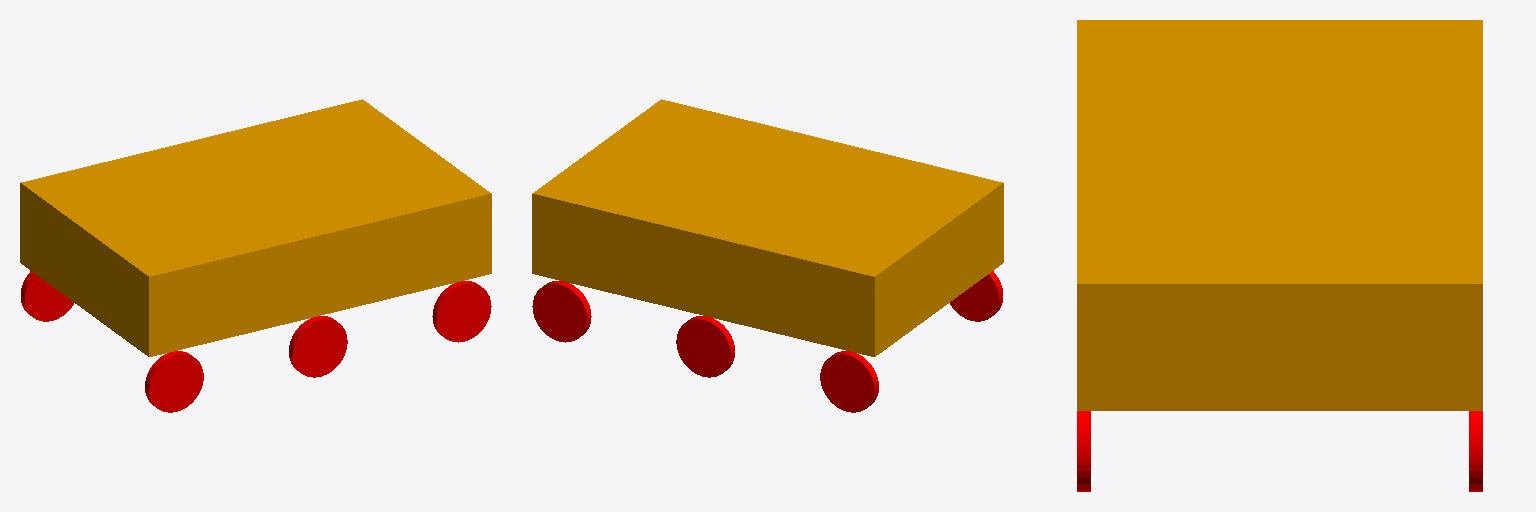
URDF robot description (mobile_ur10):
<?xml version="1.0" ?>
<!-- =================================================================================== -->
<!-- |    This document was autogenerated by xacro from mobile_arm.urdf.xacro          | -->
<!-- |    EDITING THIS FILE BY HAND IS NOT RECOMMENDED                                 | -->
<!-- =================================================================================== -->
<robot name="mobile_ur10" xmlns:xacro="http://ros.org/wiki/xacro">
  <gazebo>
    <!-- turn on self-collision detection so that links will not pass through each other -->
    <self_collide>0</self_collide>
    <!-- disable the default behavior with PositionJointInterface that causes twists to be cleared -->
    <preserveWorldVelocity>1</preserveWorldVelocity>
    <!-- for the mobile base -->
    <!-- MQMX to (possibly?) replace this with ros control plugin -->
    <plugin filename="libgazebo_ros_diff_drive.so" name="differential_drive_controller">
      <leftJoint>wheel_2_joint</leftJoint>
      <rightJoint>wheel_5_joint</rightJoint>
      <robotBaseFrame>chassis</robotBaseFrame>
      <wheelSeparation>0.56</wheelSeparation>
      <wheelDiameter>0.142</wheelDiameter>
      <publishWheelJointState>true</publishWheelJointState>
      <legacyMode>false</legacyMode>
    </plugin>
    <!-- for the UR10, copied from $(find ur_description)/urdf/common.gazebo.xacro -->
    <plugin filename="libgazebo_ros_control.so" name="ros_control"/>
  </gazebo>
  <!-- Chassis link -->
  <link name="chassis">
    <visual name="visual">
      <geometry>
        <box size="0.89 0.58 0.2"/>
      </geometry>
    </visual>
    <collision name="collision">
      <geometry>
        <box size="0.89 0.58 0.2"/>
      </geometry>
    </collision>
    <inertial>
      <mass value="63.65"/>
      <inertia ixx="1.99648833333" ixy="0.0" ixz="0.0" iyy="4.41359708333" iyz="0.0" izz="5.98575208333"/>
    </inertial>
  </link>
  <link name="wheel_1_link">
    <!-- Note: must omit name="foo" because in Gazebo 7 the urdf parser has a bug that would make <gazebo reference="bar"> not work -->
    <visual>
      <geometry>
        <cylinder length="0.02" radius="0.071"/>
      </geometry>
      <material name="red">
        <color rgba="1 0 0 1"/>
      </material>
    </visual>
    <!-- Note: must omit name="foo" because in Gazebo 7 the urdf parser has a bug that would make <gazebo reference="bar"> not work -->
    <collision>
      <geometry>
        <cylinder length="0.02" radius="0.071"/>
      </geometry>
    </collision>
    <inertial>
      <mass value="0.558333333333"/>
      <inertia ixx="0.000722250694444" ixy="0.0" ixz="0.0" iyy="0.000722250694444" iyz="0.0" izz="0.00140727916667"/>
    </inertial>
  </link>
  <joint name="wheel_1_joint" type="fixed">
    <axis xyz="0 0 1"/>
    <parent link="chassis"/>
    <child link="wheel_1_link"/>
    <origin rpy="-1.5707963268 0 0" xyz="0.374 0.28 -0.181"/>
  </joint>
  <link name="wheel_2_link">
    <!-- Note: must omit name="foo" because in Gazebo 7 the urdf parser has a bug that would make <gazebo reference="bar"> not work -->
    <visual>
      <geometry>
        <cylinder length="0.02" radius="0.071"/>
      </geometry>
      <material name="red">
        <color rgba="1 0 0 1"/>
      </material>
    </visual>
    <!-- Note: must omit name="foo" because in Gazebo 7 the urdf parser has a bug that would make <gazebo reference="bar"> not work -->
    <collision>
      <geometry>
        <cylinder length="0.02" radius="0.071"/>
      </geometry>
    </collision>
    <inertial>
      <mass value="0.558333333333"/>
      <inertia ixx="0.000722250694444" ixy="0.0" ixz="0.0" iyy="0.000722250694444" iyz="0.0" izz="0.00140727916667"/>
    </inertial>
  </link>
  <joint name="wheel_2_joint" type="continuous">
    <axis xyz="0 0 1"/>
    <parent link="chassis"/>
    <child link="wheel_2_link"/>
    <origin rpy="-1.5707963268 0 0" xyz="0 0.28 -0.181"/>
  </joint>
  <link name="wheel_3_link">
    <!-- Note: must omit name="foo" because in Gazebo 7 the urdf parser has a bug that would make <gazebo reference="bar"> not work -->
    <visual>
      <geometry>
        <cylinder length="0.02" radius="0.071"/>
      </geometry>
      <material name="red">
        <color rgba="1 0 0 1"/>
      </material>
    </visual>
    <!-- Note: must omit name="foo" because in Gazebo 7 the urdf parser has a bug that would make <gazebo reference="bar"> not work -->
    <collision>
      <geometry>
        <cylinder length="0.02" radius="0.071"/>
      </geometry>
    </collision>
    <inertial>
      <mass value="0.558333333333"/>
      <inertia ixx="0.000722250694444" ixy="0.0" ixz="0.0" iyy="0.000722250694444" iyz="0.0" izz="0.00140727916667"/>
    </inertial>
  </link>
  <joint name="wheel_3_joint" type="fixed">
    <axis xyz="0 0 1"/>
    <parent link="chassis"/>
    <child link="wheel_3_link"/>
    <origin rpy="-1.5707963268 0 0" xyz="-0.374 0.28 -0.181"/>
  </joint>
  <link name="wheel_4_link">
    <!-- Note: must omit name="foo" because in Gazebo 7 the urdf parser has a bug that would make <gazebo reference="bar"> not work -->
    <visual>
      <geometry>
        <cylinder length="0.02" radius="0.071"/>
      </geometry>
      <material name="red">
        <color rgba="1 0 0 1"/>
      </material>
    </visual>
    <!-- Note: must omit name="foo" because in Gazebo 7 the urdf parser has a bug that would make <gazebo reference="bar"> not work -->
    <collision>
      <geometry>
        <cylinder length="0.02" radius="0.071"/>
      </geometry>
    </collision>
    <inertial>
      <mass value="0.558333333333"/>
      <inertia ixx="0.000722250694444" ixy="0.0" ixz="0.0" iyy="0.000722250694444" iyz="0.0" izz="0.00140727916667"/>
    </inertial>
  </link>
  <joint name="wheel_4_joint" type="fixed">
    <axis xyz="0 0 1"/>
    <parent link="chassis"/>
    <child link="wheel_4_link"/>
    <origin rpy="-1.5707963268 0 0" xyz="-0.374 -0.28 -0.181"/>
  </joint>
  <link name="wheel_5_link">
    <!-- Note: must omit name="foo" because in Gazebo 7 the urdf parser has a bug that would make <gazebo reference="bar"> not work -->
    <visual>
      <geometry>
        <cylinder length="0.02" radius="0.071"/>
      </geometry>
      <material name="red">
        <color rgba="1 0 0 1"/>
      </material>
    </visual>
    <!-- Note: must omit name="foo" because in Gazebo 7 the urdf parser has a bug that would make <gazebo reference="bar"> not work -->
    <collision>
      <geometry>
        <cylinder length="0.02" radius="0.071"/>
      </geometry>
    </collision>
    <inertial>
      <mass value="0.558333333333"/>
      <inertia ixx="0.000722250694444" ixy="0.0" ixz="0.0" iyy="0.000722250694444" iyz="0.0" izz="0.00140727916667"/>
    </inertial>
  </link>
  <joint name="wheel_5_joint" type="continuous">
    <axis xyz="0 0 1"/>
    <parent link="chassis"/>
    <child link="wheel_5_link"/>
    <origin rpy="-1.5707963268 0 0" xyz="0 -0.28 -0.181"/>
  </joint>
  <link name="wheel_6_link">
    <!-- Note: must omit name="foo" because in Gazebo 7 the urdf parser has a bug that would make <gazebo reference="bar"> not work -->
    <visual>
      <geometry>
        <cylinder length="0.02" radius="0.071"/>
      </geometry>
      <material name="red">
        <color rgba="1 0 0 1"/>
      </material>
    </visual>
    <!-- Note: must omit name="foo" because in Gazebo 7 the urdf parser has a bug that would make <gazebo reference="bar"> not work -->
    <collision>
      <geometry>
        <cylinder length="0.02" radius="0.071"/>
      </geometry>
    </collision>
    <inertial>
      <mass value="0.558333333333"/>
      <inertia ixx="0.000722250694444" ixy="0.0" ixz="0.0" iyy="0.000722250694444" iyz="0.0" izz="0.00140727916667"/>
    </inertial>
  </link>
  <joint name="wheel_6_joint" type="fixed">
    <axis xyz="0 0 1"/>
    <parent link="chassis"/>
    <child link="wheel_6_link"/>
    <origin rpy="-1.5707963268 0 0" xyz="0.374 -0.28 -0.181"/>
  </joint>
  <gazebo reference="wheel_1_link">
    <mu1>0</mu1>
    <mu2>0</mu2>
    <material>Gazebo/Red</material>
  </gazebo>
  <gazebo reference="wheel_3_link">
    <mu1>0</mu1>
    <mu2>0</mu2>
    <material>Gazebo/Red</material>
  </gazebo>
  <gazebo reference="wheel_4_link">
    <mu1>0</mu1>
    <mu2>0</mu2>
    <material>Gazebo/Red</material>
  </gazebo>
  <gazebo reference="wheel_6_link">
    <mu1>0</mu1>
    <mu2>0</mu2>
    <material>Gazebo/Red</material>
  </gazebo>
  <!--
  Author: [author]
  Contributers: [author], [author], [author]
-->
  <!-- measured from model -->
  <link name="base_link">
    <visual>
      <geometry>
        <mesh filename="package://ur_description/meshes/ur10/visual/base.dae"/>
      </geometry>
      <material name="LightGrey">
        <color rgba="0.7 0.7 0.7 1.0"/>
      </material>
    </visual>
    <collision>
      <geometry>
        <mesh filename="package://ur_description/meshes/ur10/collision/base.stl"/>
      </geometry>
    </collision>
    <inertial>
      <mass value="4.0"/>
      <origin rpy="0 0 0" xyz="0.0 0.0 0.0"/>
      <inertia ixx="0.0061063308908" ixy="0.0" ixz="0.0" iyy="0.0061063308908" iyz="0.0" izz="0.01125"/>
    </inertial>
  </link>
  <joint name="shoulder_pan_joint" type="revolute">
    <parent link="base_link"/>
    <child link="shoulder_link"/>
    <origin rpy="0.0 0.0 0.0" xyz="0.0 0.0 0.1273"/>
    <axis xyz="0 0 1"/>
    <limit effort="330.0" lower="-6.28318530718" upper="6.28318530718" velocity="2.16"/>
    <dynamics damping="0.0" friction="0.0"/>
  </joint>
  <link name="shoulder_link">
    <visual>
      <geometry>
        <mesh filename="package://ur_description/meshes/ur10/visual/shoulder.dae"/>
      </geometry>
      <material name="LightGrey">
        <color rgba="0.7 0.7 0.7 1.0"/>
      </material>
    </visual>
    <collision>
      <geometry>
        <mesh filename="package://ur_description/meshes/ur10/collision/shoulder.stl"/>
      </geometry>
    </collision>
    <inertial>
      <mass value="7.778"/>
      <origin rpy="0 0 0" xyz="0.0 0.0 0.0"/>
      <inertia ixx="0.0314743125769" ixy="0.0" ixz="0.0" iyy="0.0314743125769" iyz="0.0" izz="0.021875625"/>
    </inertial>
  </link>
  <joint name="shoulder_lift_joint" type="revolute">
    <parent link="shoulder_link"/>
    <child link="upper_arm_link"/>
    <origin rpy="0.0 1.5707963268 0.0" xyz="0.0 0.220941 0.0"/>
    <axis xyz="0 1 0"/>
    <limit effort="330.0" lower="-6.28318530718" upper="6.28318530718" velocity="2.16"/>
    <dynamics damping="0.0" friction="0.0"/>
  </joint>
  <link name="upper_arm_link">
    <visual>
      <geometry>
        <mesh filename="package://ur_description/meshes/ur10/visual/upperarm.dae"/>
      </geometry>
      <material name="LightGrey">
        <color rgba="0.7 0.7 0.7 1.0"/>
      </material>
    </visual>
    <collision>
      <geometry>
        <mesh filename="package://ur_description/meshes/ur10/collision/upperarm.stl"/>
      </geometry>
    </collision>
    <inertial>
      <mass value="12.93"/>
      <origin rpy="0 0 0" xyz="0.0 0.0 0.306"/>
      <inertia ixx="0.421753803798" ixy="0.0" ixz="0.0" iyy="0.421753803798" iyz="0.0" izz="0.036365625"/>
    </inertial>
  </link>
  <joint name="elbow_joint" type="revolute">
    <parent link="upper_arm_link"/>
    <child link="forearm_link"/>
    <origin rpy="0.0 0.0 0.0" xyz="0.0 -0.1719 0.612"/>
    <axis xyz="0 1 0"/>
    <limit effort="150.0" lower="-3.14159265359" upper="3.14159265359" velocity="3.15"/>
    <dynamics damping="0.0" friction="0.0"/>
  </joint>
  <link name="forearm_link">
    <visual>
      <geometry>
        <mesh filename="package://ur_description/meshes/ur10/visual/forearm.dae"/>
      </geometry>
      <material name="LightGrey">
        <color rgba="0.7 0.7 0.7 1.0"/>
      </material>
    </visual>
    <collision>
      <geometry>
        <mesh filename="package://ur_description/meshes/ur10/collision/forearm.stl"/>
      </geometry>
    </collision>
    <inertial>
      <mass value="3.87"/>
      <origin rpy="0 0 0" xyz="0.0 0.0 0.28615"/>
      <inertia ixx="0.111069694097" ixy="0.0" ixz="0.0" iyy="0.111069694097" iyz="0.0" izz="0.010884375"/>
    </inertial>
  </link>
  <joint name="wrist_1_joint" type="revolute">
    <parent link="forearm_link"/>
    <child link="wrist_1_link"/>
    <origin rpy="0.0 1.5707963268 0.0" xyz="0.0 0.0 0.5723"/>
    <axis xyz="0 1 0"/>
    <limit effort="54.0" lower="-6.28318530718" upper="6.28318530718" velocity="3.2"/>
    <dynamics damping="0.0" friction="0.0"/>
  </joint>
  <link name="wrist_1_link">
    <visual>
      <geometry>
        <mesh filename="package://ur_description/meshes/ur10/visual/wrist1.dae"/>
      </geometry>
      <material name="LightGrey">
        <color rgba="0.7 0.7 0.7 1.0"/>
      </material>
    </visual>
    <collision>
      <geometry>
        <mesh filename="package://ur_description/meshes/ur10/collision/wrist1.stl"/>
      </geometry>
    </collision>
    <inertial>
      <mass value="1.96"/>
      <origin rpy="0 0 0" xyz="0.0 0.0 0.0"/>
      <inertia ixx="0.0051082479567" ixy="0.0" ixz="0.0" iyy="0.0051082479567" iyz="0.0" izz="0.0055125"/>
    </inertial>
  </link>
  <joint name="wrist_2_joint" type="revolute">
    <parent link="wrist_1_link"/>
    <child link="wrist_2_link"/>
    <origin rpy="0.0 0.0 0.0" xyz="0.0 0.1149 0.0"/>
    <axis xyz="0 0 1"/>
    <limit effort="54.0" lower="-6.28318530718" upper="6.28318530718" velocity="3.2"/>
    <dynamics damping="0.0" friction="0.0"/>
  </joint>
  <link name="wrist_2_link">
    <visual>
      <geometry>
        <mesh filename="package://ur_description/meshes/ur10/visual/wrist2.dae"/>
      </geometry>
      <material name="LightGrey">
        <color rgba="0.7 0.7 0.7 1.0"/>
      </material>
    </visual>
    <collision>
      <geometry>
        <mesh filename="package://ur_description/meshes/ur10/collision/wrist2.stl"/>
      </geometry>
    </collision>
    <inertial>
      <mass value="1.96"/>
      <origin rpy="0 0 0" xyz="0.0 0.0 0.0"/>
      <inertia ixx="0.0051082479567" ixy="0.0" ixz="0.0" iyy="0.0051082479567" iyz="0.0" izz="0.0055125"/>
    </inertial>
  </link>
  <joint name="wrist_3_joint" type="revolute">
    <parent link="wrist_2_link"/>
    <child link="wrist_3_link"/>
    <origin rpy="0.0 0.0 0.0" xyz="0.0 0.0 0.1157"/>
    <axis xyz="0 1 0"/>
    <limit effort="54.0" lower="-6.28318530718" upper="6.28318530718" velocity="3.2"/>
    <dynamics damping="0.0" friction="0.0"/>
  </joint>
  <link name="wrist_3_link">
    <visual>
      <geometry>
        <mesh filename="package://ur_description/meshes/ur10/visual/wrist3.dae"/>
      </geometry>
      <material name="LightGrey">
        <color rgba="0.7 0.7 0.7 1.0"/>
      </material>
    </visual>
    <collision>
      <geometry>
        <mesh filename="package://ur_description/meshes/ur10/collision/wrist3.stl"/>
      </geometry>
    </collision>
    <inertial>
      <mass value="0.202"/>
      <origin rpy="0 0 0" xyz="0.0 0.0 0.0"/>
      <inertia ixx="0.000526462289415" ixy="0.0" ixz="0.0" iyy="0.000526462289415" iyz="0.0" izz="0.000568125"/>
    </inertial>
  </link>
  <joint name="ee_fixed_joint" type="fixed">
    <parent link="wrist_3_link"/>
    <child link="ee_link"/>
    <origin rpy="0.0 0.0 1.5707963268" xyz="0.0 0.0922 0.0"/>
  </joint>
  <link name="ee_link">
    <collision>
      <geometry>
        <box size="0.01 0.01 0.01"/>
      </geometry>
      <origin rpy="0 0 0" xyz="-0.01 0 0"/>
    </collision>
  </link>
  <transmission name="shoulder_pan_trans">
    <type>transmission_interface/SimpleTransmission</type>
    <joint name="shoulder_pan_joint">
      <hardwareInterface>hardware_interface/PositionJointInterface</hardwareInterface>
    </joint>
    <actuator name="shoulder_pan_motor">
      <mechanicalReduction>1</mechanicalReduction>
    </actuator>
  </transmission>
  <transmission name="shoulder_lift_trans">
    <type>transmission_interface/SimpleTransmission</type>
    <joint name="shoulder_lift_joint">
      <hardwareInterface>hardware_interface/PositionJointInterface</hardwareInterface>
    </joint>
    <actuator name="shoulder_lift_motor">
      <mechanicalReduction>1</mechanicalReduction>
    </actuator>
  </transmission>
  <transmission name="elbow_trans">
    <type>transmission_interface/SimpleTransmission</type>
    <joint name="elbow_joint">
      <hardwareInterface>hardware_interface/PositionJointInterface</hardwareInterface>
    </joint>
    <actuator name="elbow_motor">
      <mechanicalReduction>1</mechanicalReduction>
    </actuator>
  </transmission>
  <transmission name="wrist_1_trans">
    <type>transmission_interface/SimpleTransmission</type>
    <joint name="wrist_1_joint">
      <hardwareInterface>hardware_interface/PositionJointInterface</hardwareInterface>
    </joint>
    <actuator name="wrist_1_motor">
      <mechanicalReduction>1</mechanicalReduction>
    </actuator>
  </transmission>
  <transmission name="wrist_2_trans">
    <type>transmission_interface/SimpleTransmission</type>
    <joint name="wrist_2_joint">
      <hardwareInterface>hardware_interface/PositionJointInterface</hardwareInterface>
    </joint>
    <actuator name="wrist_2_motor">
      <mechanicalReduction>1</mechanicalReduction>
    </actuator>
  </transmission>
  <transmission name="wrist_3_trans">
    <type>transmission_interface/SimpleTransmission</type>
    <joint name="wrist_3_joint">
      <hardwareInterface>hardware_interface/PositionJointInterface</hardwareInterface>
    </joint>
    <actuator name="wrist_3_motor">
      <mechanicalReduction>1</mechanicalReduction>
    </actuator>
  </transmission>
  <!-- nothing to do here at the moment -->
  <!-- ROS base_link to UR 'Base' Coordinates transform -->
  <link name="base"/>
  <joint name="base_link-base_fixed_joint" type="fixed">
    <!-- NOTE: this rotation is only needed as long as base_link itself is
                 not corrected wrt the real robot (ie: rotated over 180
                 degrees)
      -->
    <origin rpy="0 0 -3.14159265359" xyz="0 0 0"/>
    <parent link="base_link"/>
    <child link="base"/>
  </joint>
  <!-- Frame coincident with all-zeros TCP on UR controller -->
  <link name="tool0"/>
  <joint name="wrist_3_link-tool0_fixed_joint" type="fixed">
    <origin rpy="-1.5707963268 0 0" xyz="0 0.0922 0"/>
    <parent link="wrist_3_link"/>
    <child link="tool0"/>
  </joint>
  <!-- joint to attach UR10 to mobile base -->
  <joint name="arm_to_mobile_base" type="fixed">
    <origin rpy="0 0 0" xyz="0 0 0.176"/>
    <parent link="chassis"/>
    <child link="base_link"/>
  </joint>
  <!-- temp attach mobile base to ground -->
  <!--link name="world" />
  <joint name="world_joint" type="fixed">
    <parent link="world" />
    <child link = "chassis" />
    <origin xyz="0.0 0.0 1.0" rpy="0.0 0.0 0.0" />
  </joint-->
</robot>

--- Render facts (derived) ---
3 views of the same robot in one strip: view 1: azimuth 30°, elevation 25°; view 2: azimuth 150°, elevation 25°; view 3: azimuth 270°, elevation 25° (orthographic).
Robot: mobile_ur10 — 17 links, 16 joints (6 revolute, 2 continuous, 8 fixed); root link chassis; default pose: every joint at zero.
Links seen in each view (by area): view 1: chassis, wheel_4_link, wheel_5_link, wheel_6_link, wheel_3_link; view 2: chassis, wheel_3_link, wheel_2_link, wheel_1_link, wheel_4_link; view 3: chassis, wheel_1_link, wheel_6_link.
Link boxes in pixels (x1,y1,x2,y2): chassis: (20, 99, 491, 356); wheel_4_link: (145, 351, 203, 412); wheel_5_link: (289, 316, 347, 377); wheel_6_link: (432, 281, 491, 342); wheel_3_link: (21, 271, 73, 321); chassis: (532, 99, 1003, 356); wheel_3_link: (820, 351, 878, 412); wheel_2_link: (676, 316, 734, 377); wheel_1_link: (532, 281, 591, 342); wheel_4_link: (950, 271, 1002, 321); chassis: (1077, 20, 1482, 410); wheel_1_link: (1469, 411, 1482, 491); wheel_6_link: (1077, 411, 1090, 491).
Bounding box of the posed robot: 0.89 × 0.58 × 0.352 m (x, y, z).
0 mesh visuals loaded from 7 distinct referenced files (none loaded); not drawn: 7 (reference not matched to a file when rendering).